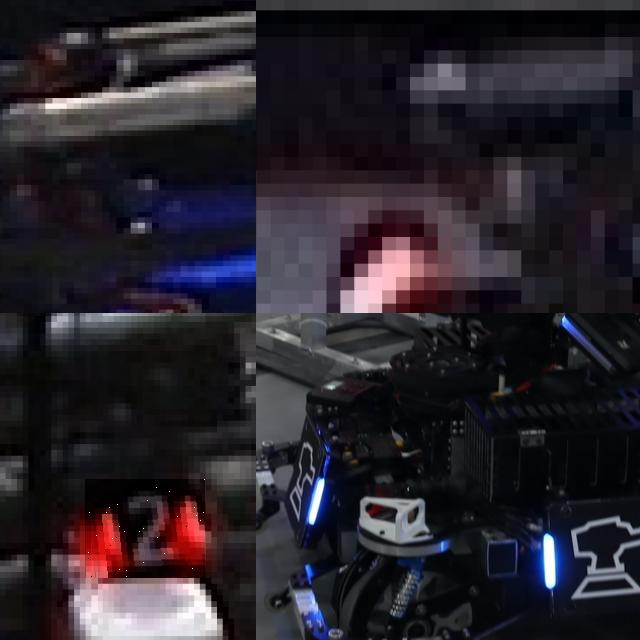Bs: (542, 505, 640, 601), (285, 428, 332, 528)
R2: (86, 479, 206, 578)
